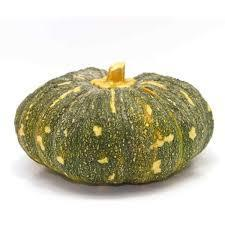pumpkin: (13, 61, 214, 186)
